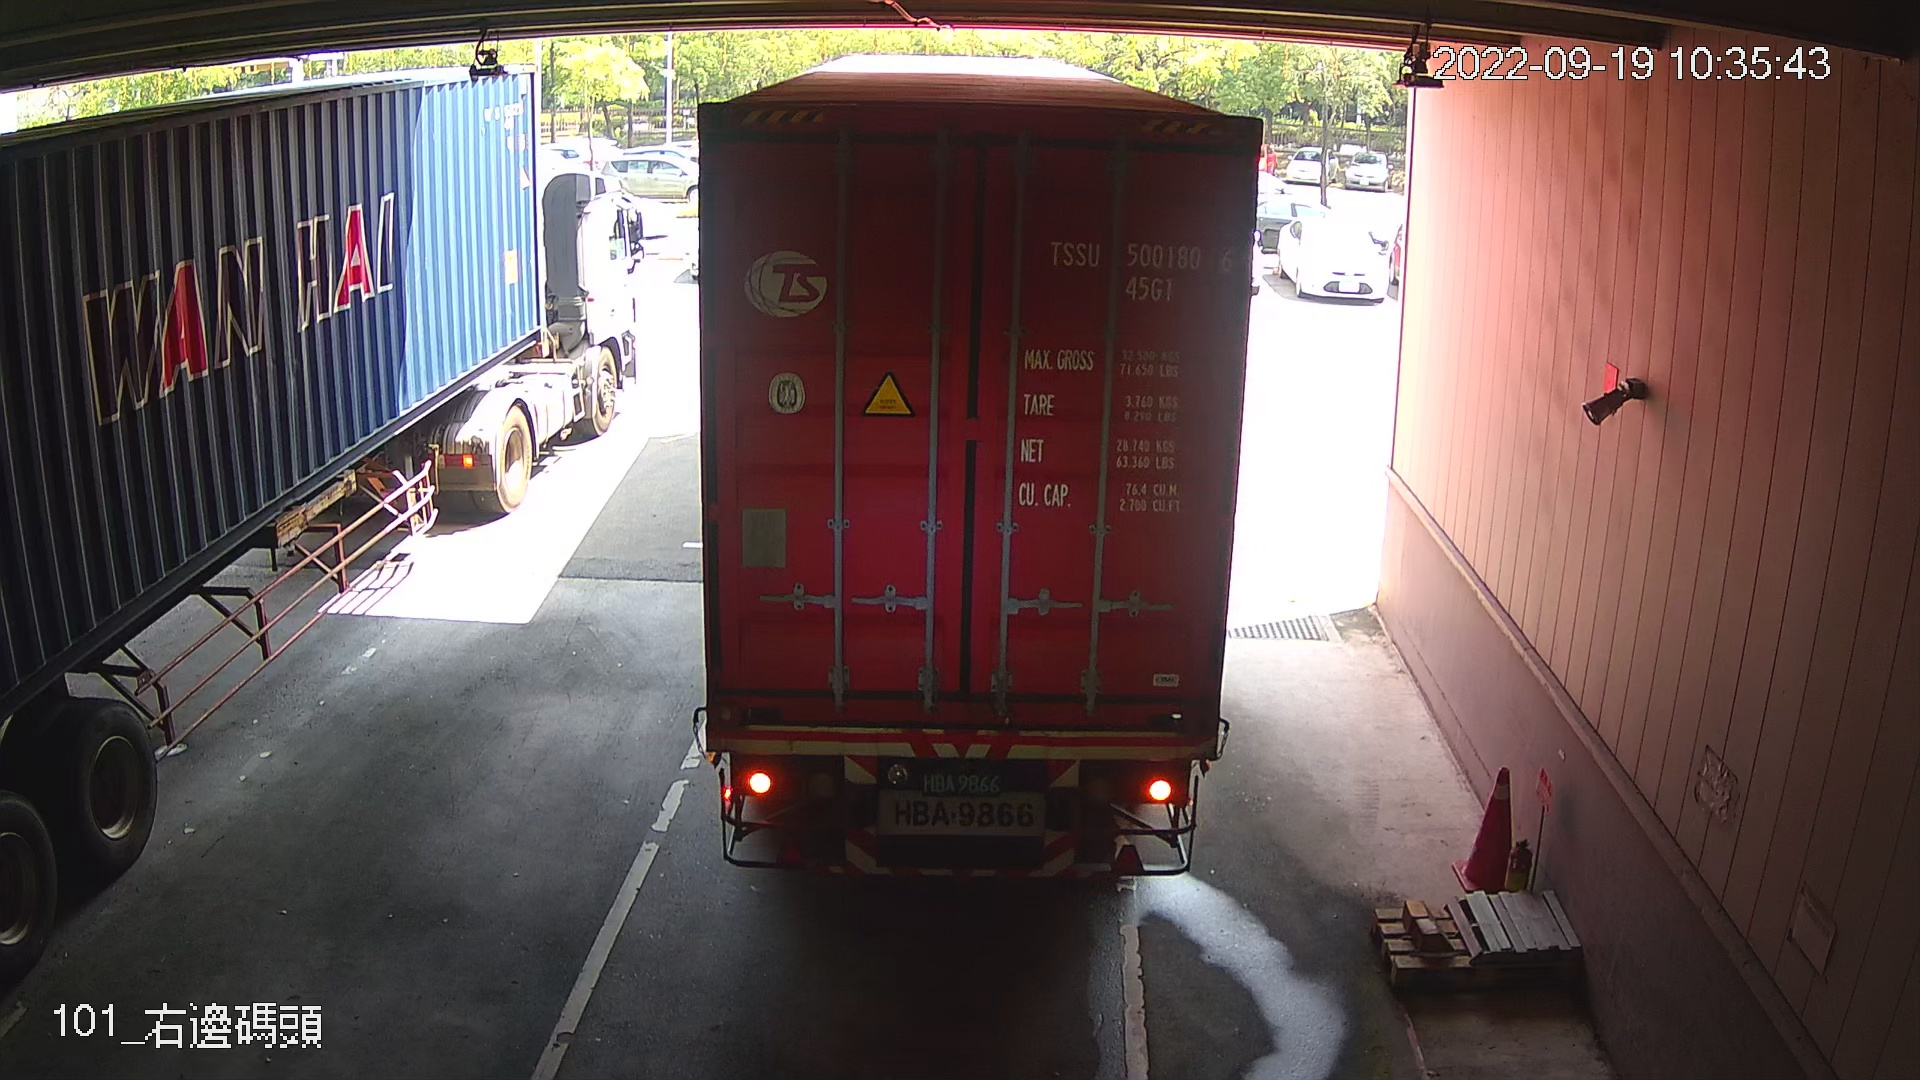container: (1035, 229, 1241, 311)
